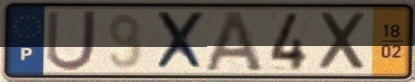4: (267, 10, 311, 73)
9: (106, 11, 147, 71)
A: (202, 9, 267, 74)
U: (44, 8, 101, 74)
X: (153, 10, 209, 73), (318, 9, 371, 74)
